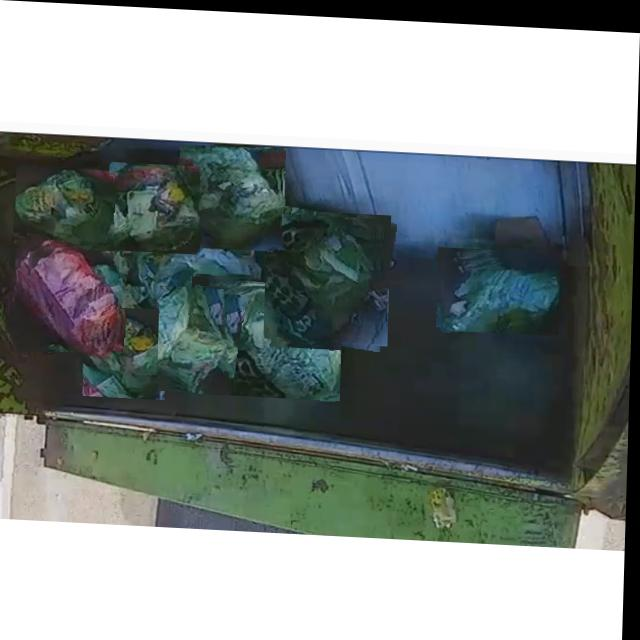general_trashbag: (201, 280, 342, 395), (267, 215, 385, 336), (181, 143, 283, 242), (442, 250, 561, 326), (17, 169, 114, 253), (112, 163, 199, 248), (160, 285, 230, 387), (89, 307, 168, 396)
other_trashbag: (25, 244, 120, 358)
